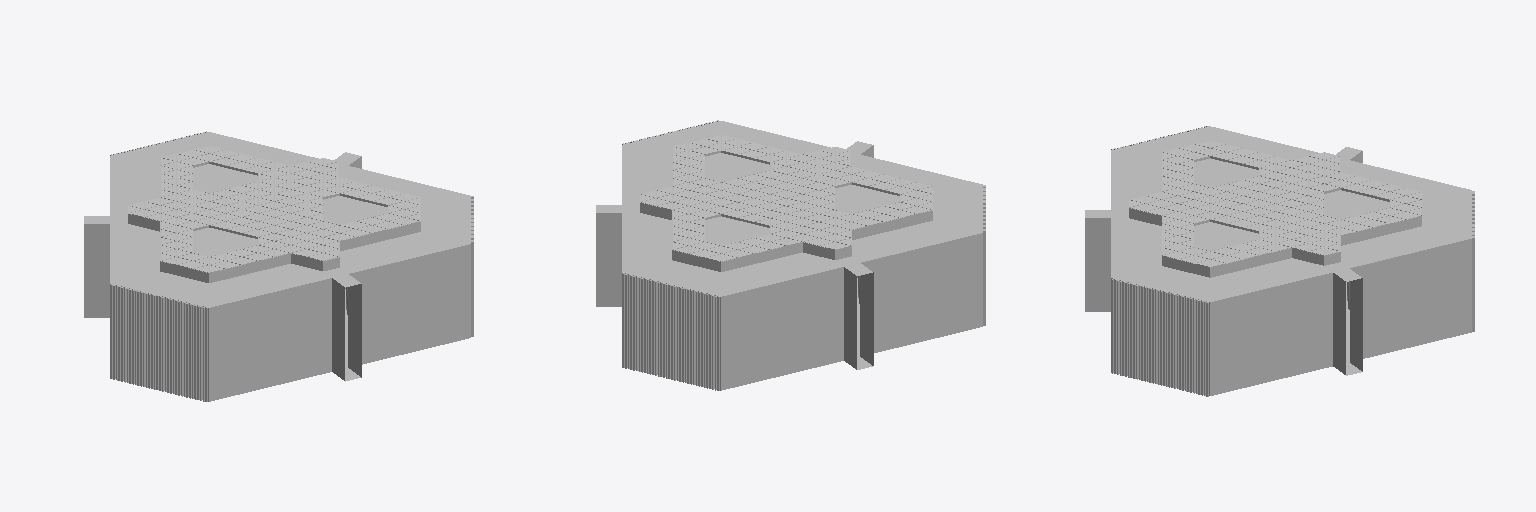
File: Cry_Empty.obj
3 views of the same model, side by side, from view 1: azimuth 30°, elevation 25°; view 2: azimuth 150°, elevation 25°; view 3: azimuth 270°, elevation 25° (orthographic).
Visible parts, largest first — view 1: 08_Wall_08_Wall_0, 01_Glass_Glass_img_01_0, 07_Top_07_Top_0, 06_Column_06_Column_0, 03_Wood_03_Wood_0, 02_Black_02_Black_0; view 2: 08_Wall_08_Wall_0, 07_Top_07_Top_0, 01_Glass_Glass_img_01_0, 06_Column_06_Column_0, 03_Wood_03_Wood_0, 02_Black_02_Black_0; view 3: 08_Wall_08_Wall_0, 07_Top_07_Top_0, 01_Glass_Glass_img_01_0, 06_Column_06_Column_0, 03_Wood_03_Wood_0, 02_Black_02_Black_0.
Boxes of the visible parts, box(x1,y1,x2,y2) form: 08_Wall_08_Wall_0: box(84, 156, 470, 401); 01_Glass_Glass_img_01_0: box(110, 146, 420, 401); 07_Top_07_Top_0: box(84, 131, 473, 307); 06_Column_06_Column_0: box(193, 162, 387, 314); 03_Wood_03_Wood_0: box(110, 132, 473, 401); 02_Black_02_Black_0: box(128, 146, 420, 272); 08_Wall_08_Wall_0: box(596, 145, 982, 390); 07_Top_07_Top_0: box(596, 120, 985, 296); 01_Glass_Glass_img_01_0: box(622, 135, 932, 390); 06_Column_06_Column_0: box(705, 151, 899, 303); 03_Wood_03_Wood_0: box(622, 121, 985, 390); 02_Black_02_Black_0: box(640, 135, 932, 261); 08_Wall_08_Wall_0: box(1085, 151, 1471, 395); 07_Top_07_Top_0: box(1085, 126, 1474, 302); 01_Glass_Glass_img_01_0: box(1111, 141, 1421, 396); 06_Column_06_Column_0: box(1194, 156, 1389, 309); 03_Wood_03_Wood_0: box(1111, 126, 1474, 396); 02_Black_02_Black_0: box(1129, 141, 1421, 267).
Size of the model in its own units: 33.47 by 9.2 by 31.08.